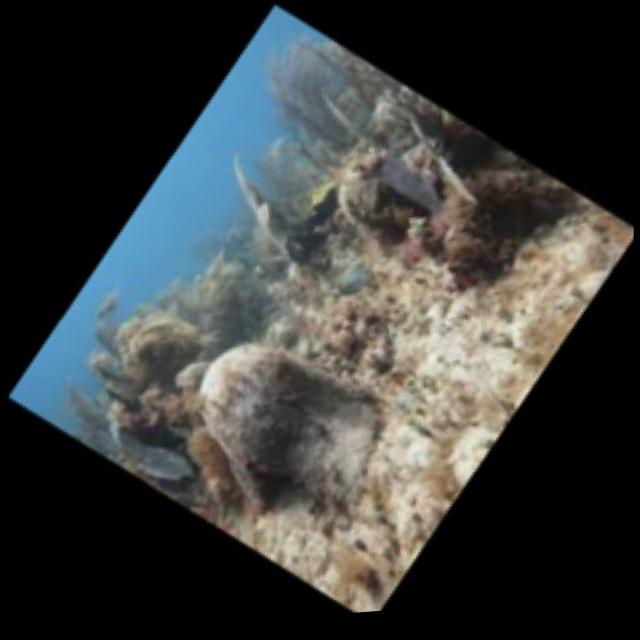Dead Coral: (149, 262, 428, 551), (197, 108, 384, 333), (60, 255, 231, 476)
